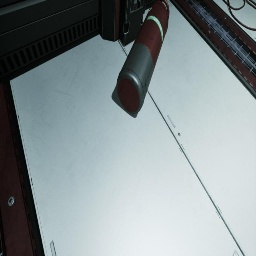NitrogenTank ,: (116, 0, 169, 114)
